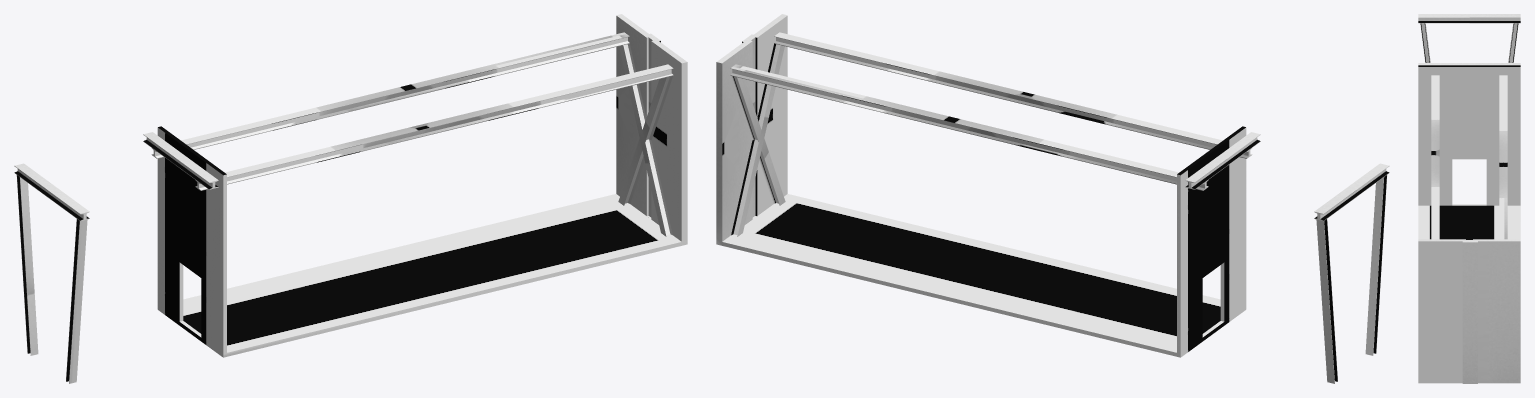
The model's file is Warehouse.obj.
3 views of the same model, side by side, from view 1: azimuth 30°, elevation 25°; view 2: azimuth 150°, elevation 25°; view 3: azimuth 270°, elevation 25° (orthographic). The views are drawn at different scales.
Parts seen in each view (by area): view 1: WarehouseMidLoading_Cube.002; view 2: WarehouseMidLoading_Cube.002; view 3: WarehouseMidLoading_Cube.002.
Part boxes in pixels (bbox=[...]): WarehouseMidLoading_Cube.002: bbox=[14, 14, 687, 383]; WarehouseMidLoading_Cube.002: bbox=[716, 14, 1389, 383]; WarehouseMidLoading_Cube.002: bbox=[1418, 14, 1520, 383].
Size of the model in its own units: 32.15 by 9.22 by 6.02.
